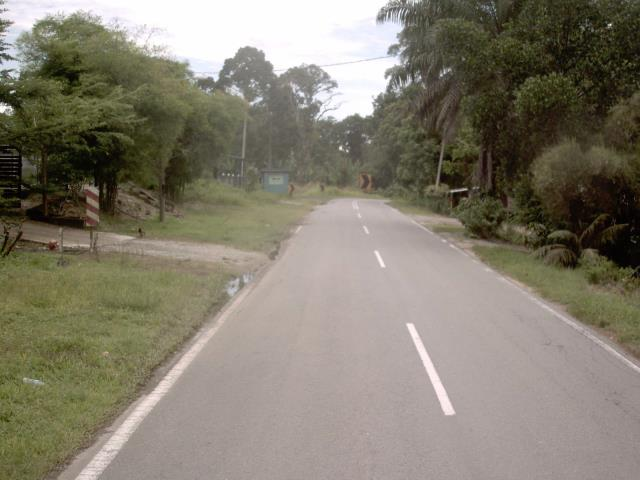traffic_sign: (77, 176, 106, 237)
